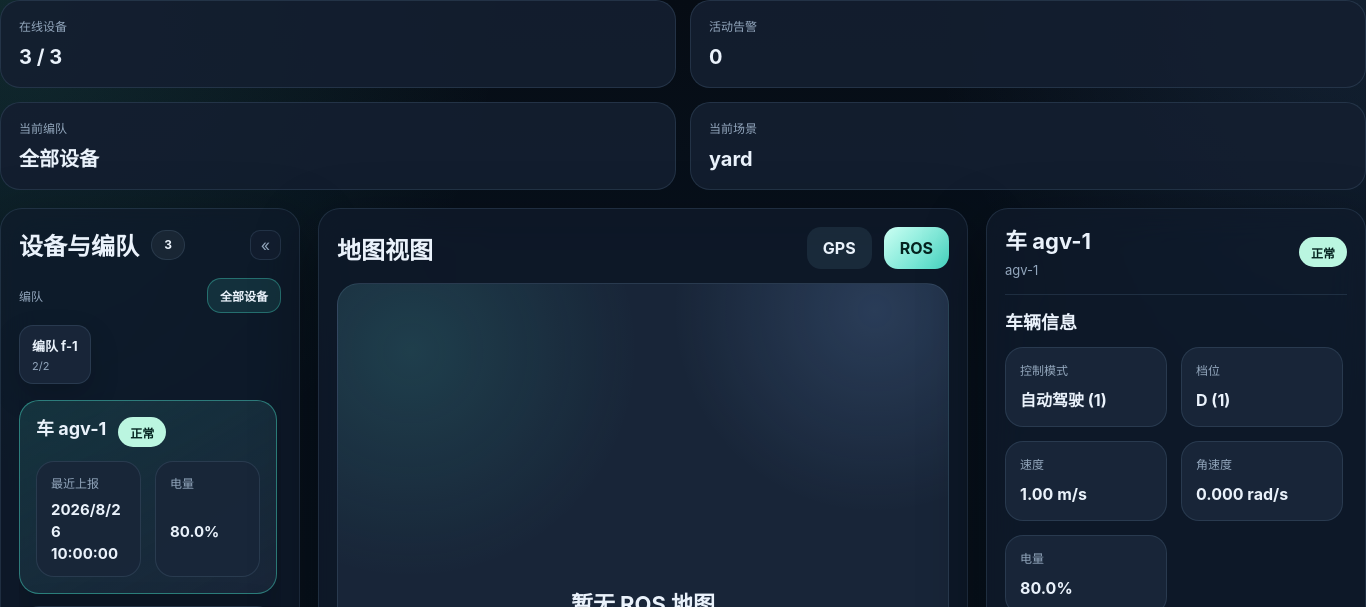
Test: DashboardView fleet panel collapse › hides the device list and remembers the choice
Click the button "«".
click(265, 244)  # box [250,230,281,260]
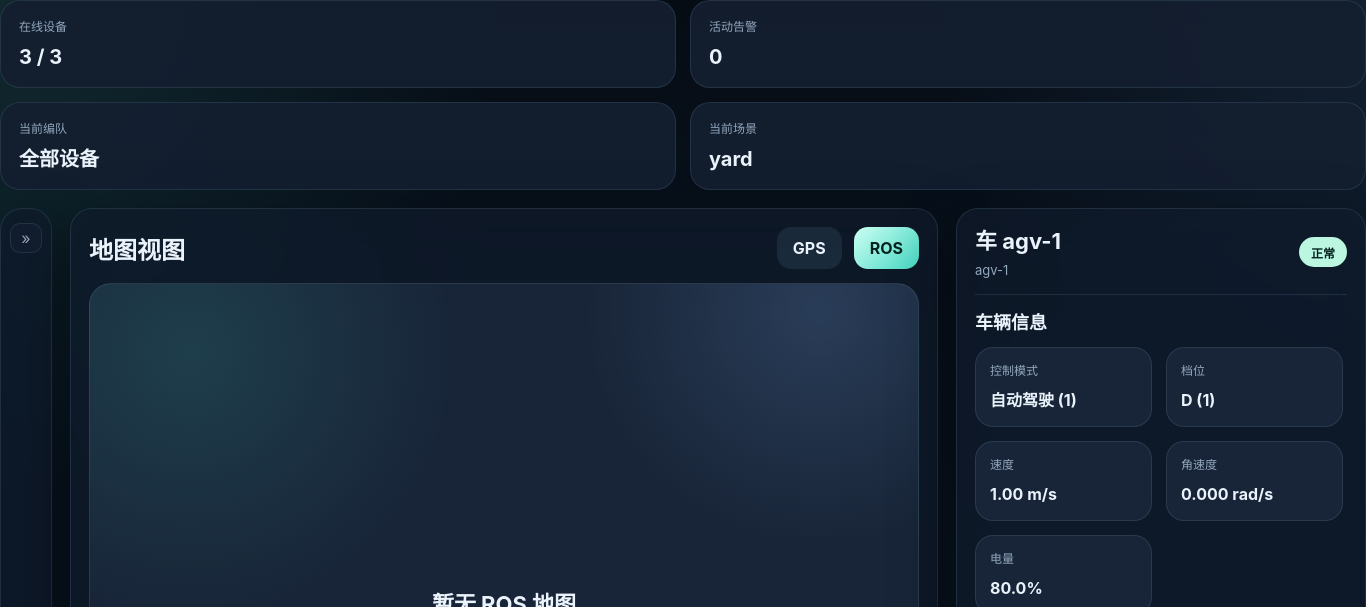
Expected: no buttons with class "device-item" are shown
